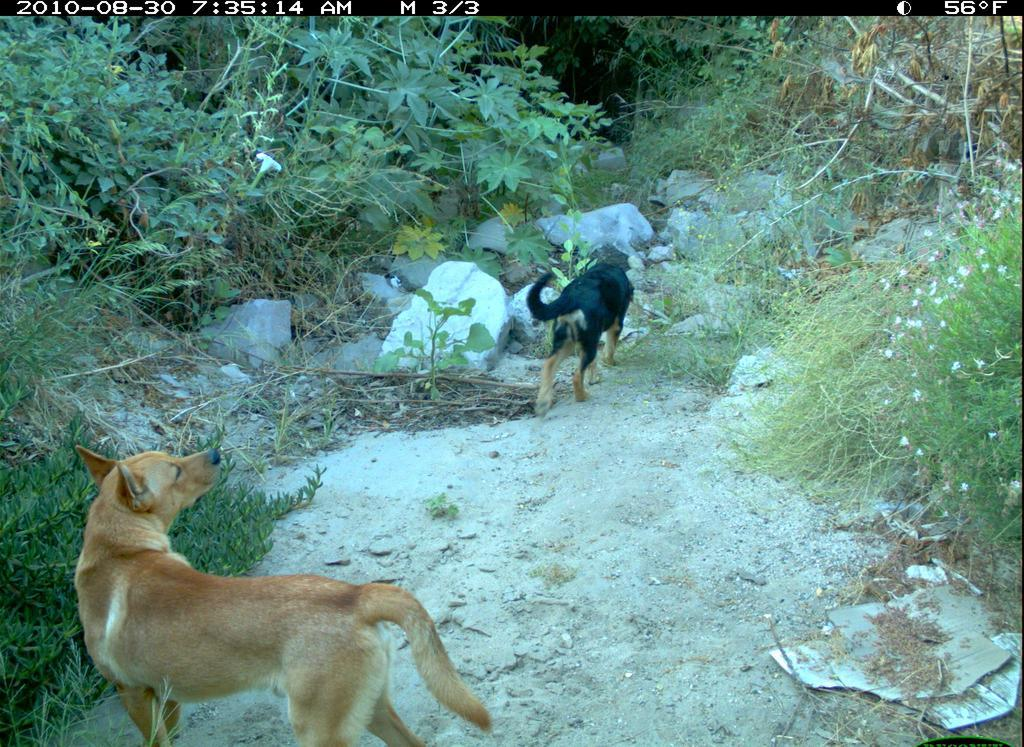dog: (71, 437, 501, 747), (524, 244, 641, 419)
